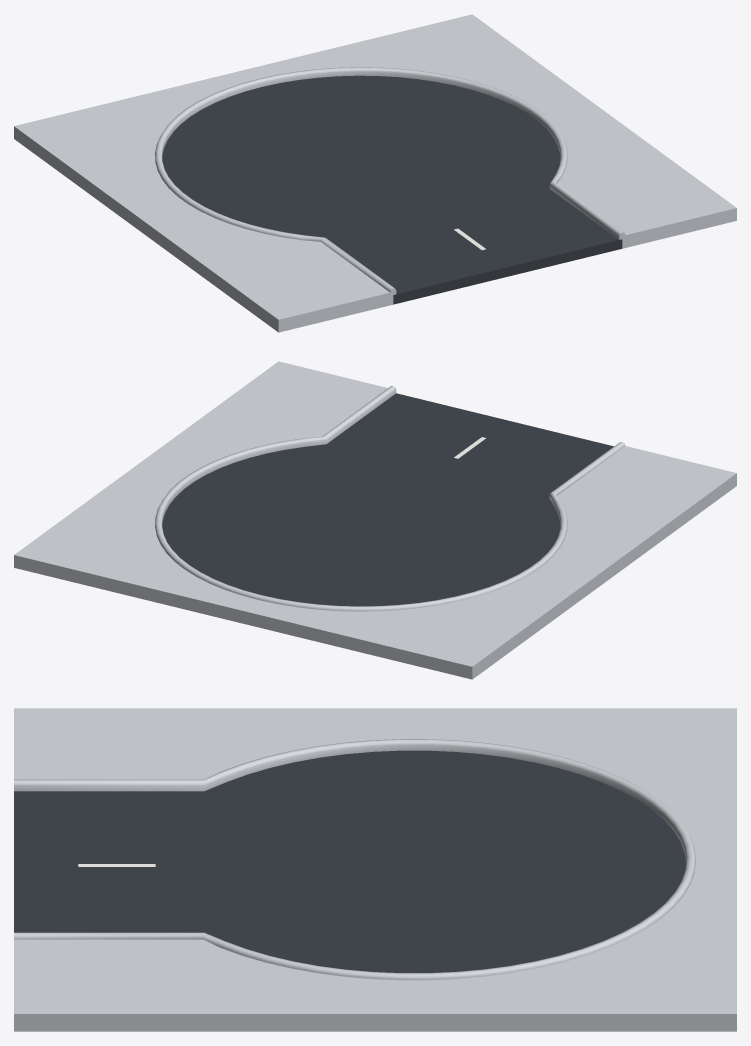
Rendered from rua_fim.glb.
The picture shows the model from 3 angles, top to bottom: view 1: azimuth 30°, elevation 25°; view 2: azimuth 150°, elevation 25°; view 3: azimuth 270°, elevation 25°; orthographic projection. The views are drawn at different scales.
Parts seen in each view (by area): view 1: rua_fim; view 2: rua_fim; view 3: rua_fim.
Boxes of the visible parts, left/top/right/bottom form: rua_fim: left=14, top=14, right=736, bottom=332; rua_fim: left=14, top=361, right=736, bottom=679; rua_fim: left=14, top=708, right=736, bottom=1031.
Bounding box in the file's own units: 15 × 0.5 × 15.
1 material, 1 textured.
